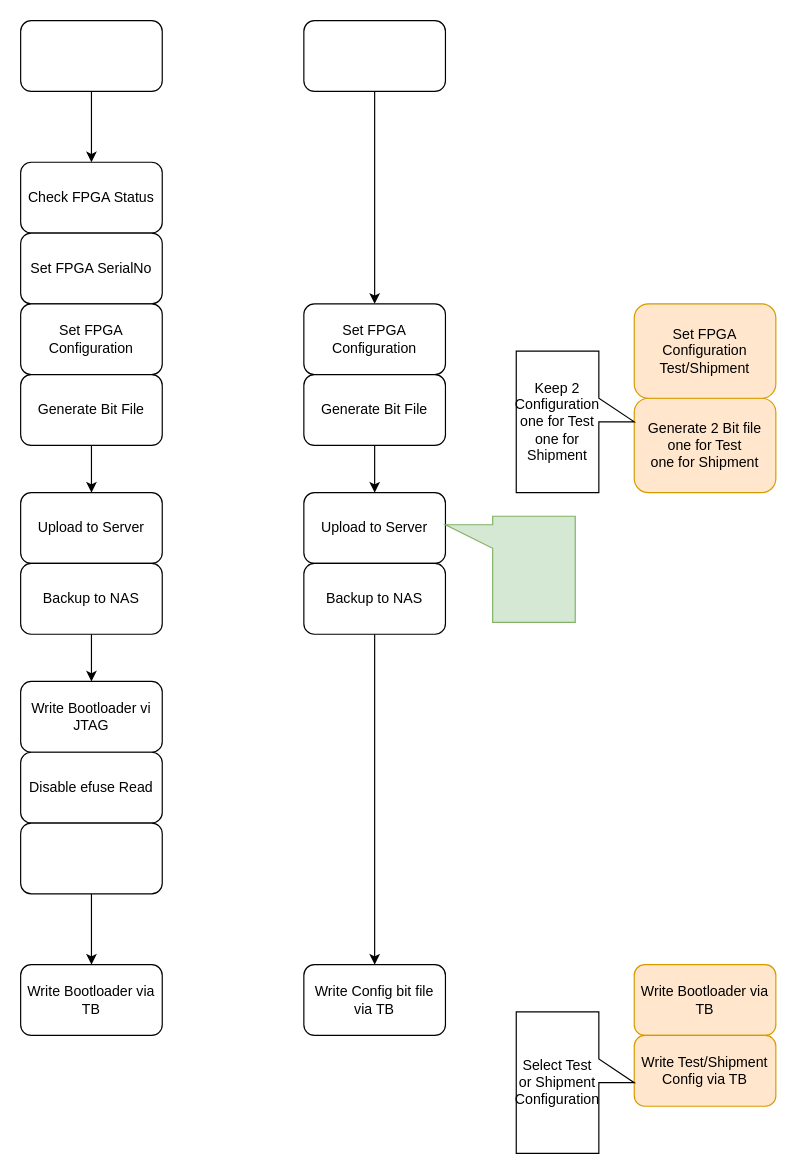
The diagram is 796 pixels wide and 1174 high, and some of its shapes have lost their labels. Here are the shapes that lost their labels. From the top down, the centre of each, then its label:
point (90, 55): eFuse
point (374, 55): Modify Configuration
point (509, 568): Local or Remote
point (90, 858): Write Bootloader via JTAG
